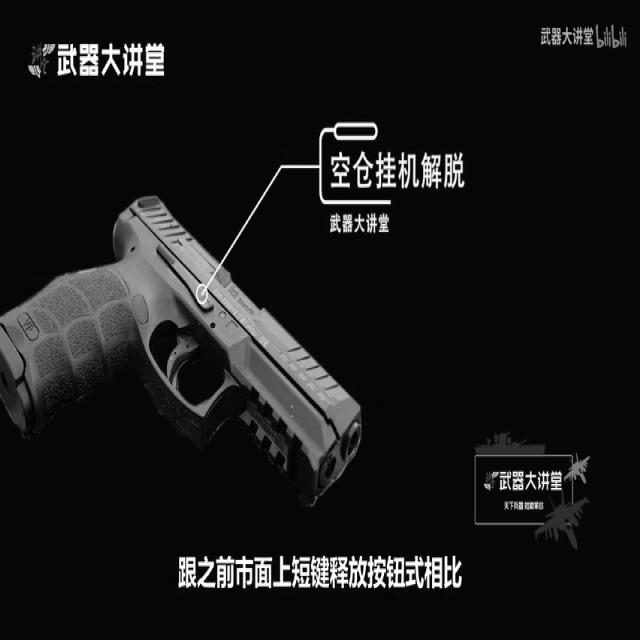Hand-Gun: (0, 126, 389, 640)
